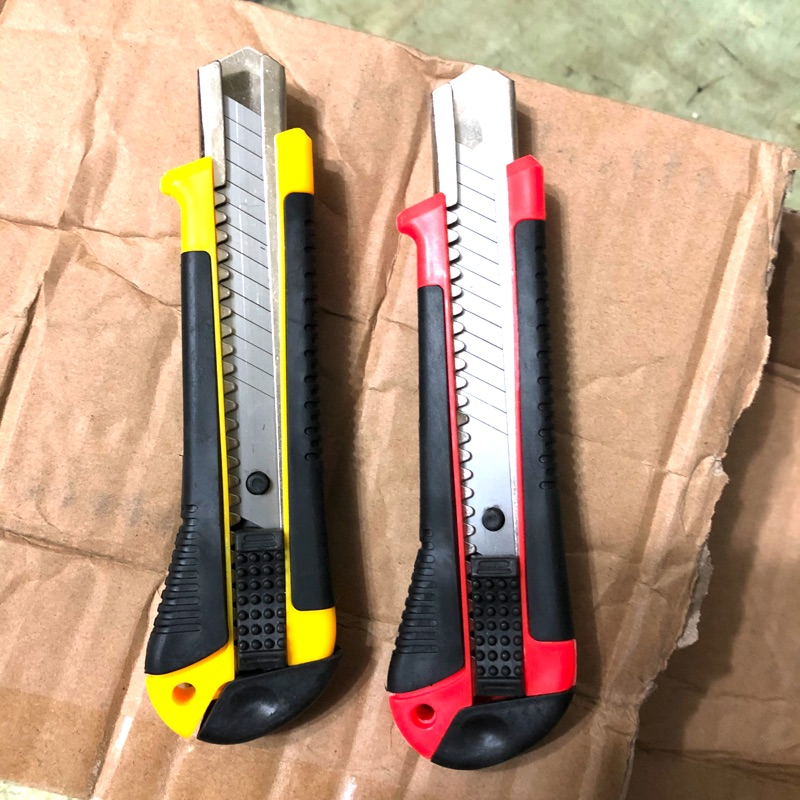cutter: (385, 61, 583, 772), (143, 43, 340, 749)
